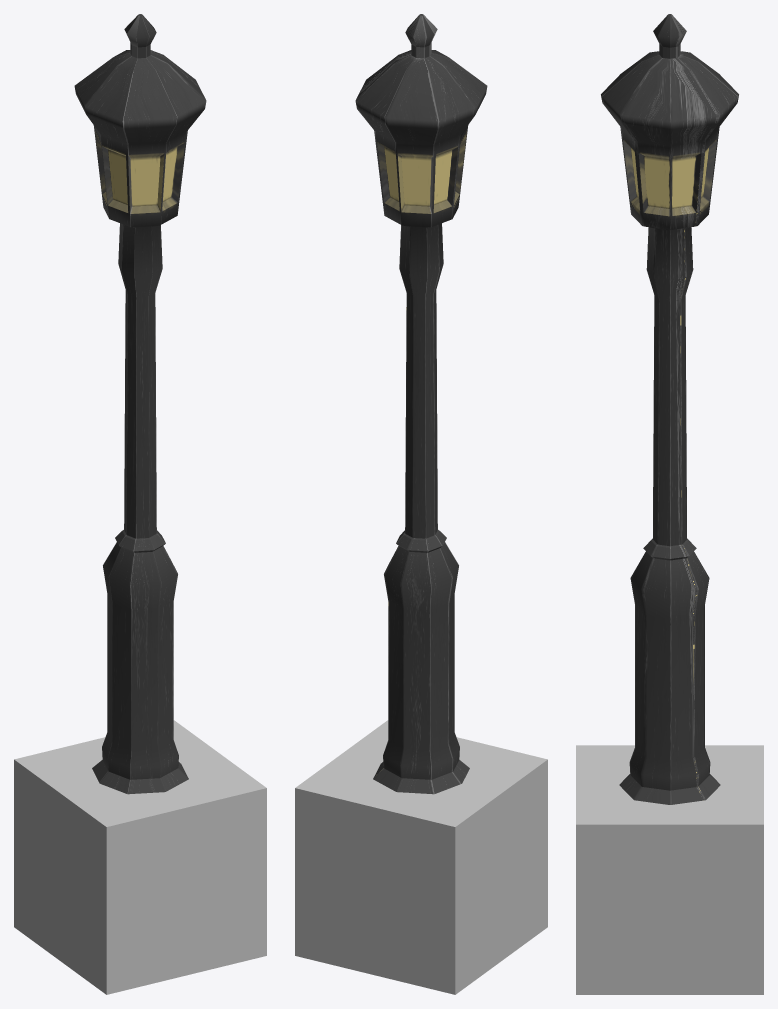
Rendered from lampara.obj.
3 renders of one model, left to right at view 1: azimuth 30°, elevation 25°; view 2: azimuth 150°, elevation 25°; view 3: azimuth 270°, elevation 25°, orthographic.
Parts seen in each view (by area): view 1: Cube, Farola_animal_crossing; view 2: Cube, Farola_animal_crossing; view 3: Farola_animal_crossing, Cube.
Boxes of the visible parts, box(x1,y1,x2,y2) form: Cube: box(14, 720, 266, 994); Farola_animal_crossing: box(74, 14, 206, 794); Cube: box(295, 720, 547, 994); Farola_animal_crossing: box(355, 14, 487, 794); Farola_animal_crossing: box(601, 14, 738, 804); Cube: box(576, 745, 763, 994).
Size of the model in its own units: 2 by 11.04 by 2.
2 materials, 1 textured.
